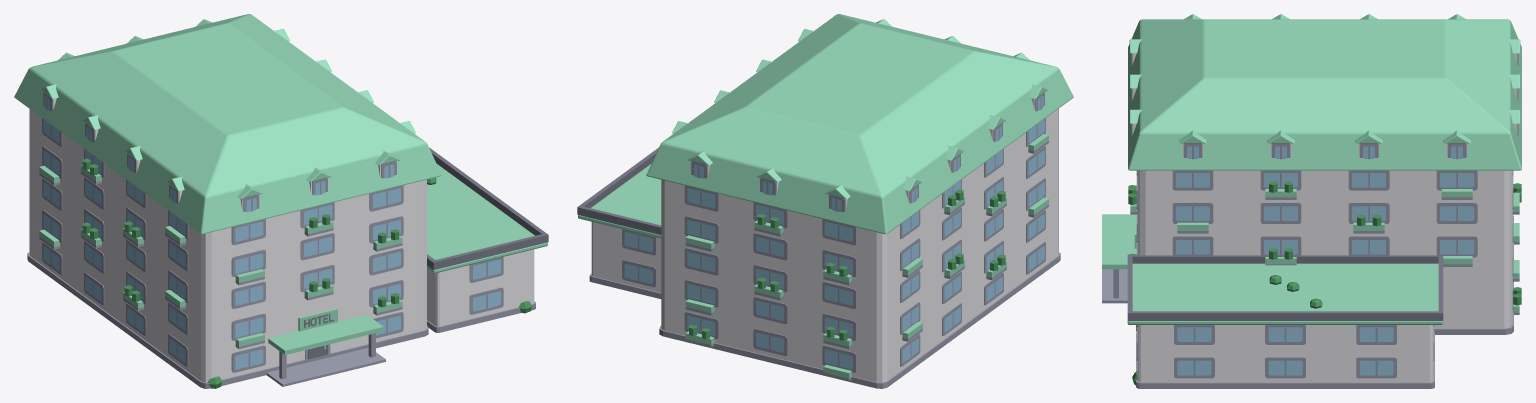
File: hotel-3x3-t2-tone-a.glb
The picture shows the model from 3 angles, left to right: view 1: azimuth 30°, elevation 25°; view 2: azimuth 150°, elevation 25°; view 3: azimuth 270°, elevation 25°; orthographic projection. The views are drawn at different scales.
Visible parts, largest first — view 1: hotel-3x3-t2-tone-a; view 2: hotel-3x3-t2-tone-a; view 3: hotel-3x3-t2-tone-a.
Part boxes in pixels (bbox=[...]): hotel-3x3-t2-tone-a: bbox=[14, 14, 548, 388]; hotel-3x3-t2-tone-a: bbox=[577, 14, 1073, 388]; hotel-3x3-t2-tone-a: bbox=[1102, 14, 1521, 388].
Size of the model in its own units: 2.96 by 1.77 by 2.96.
Materials: 1 (1 with a texture image).
